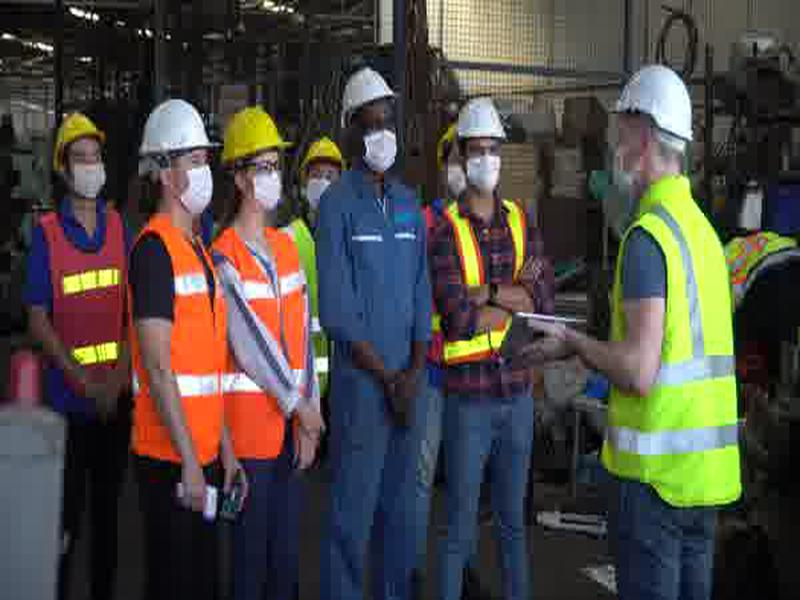hard-hat: (604, 62, 696, 155), (137, 97, 224, 161), (434, 115, 508, 176), (220, 106, 296, 164), (336, 66, 402, 131), (50, 109, 108, 174), (456, 96, 509, 149), (296, 133, 349, 182)
